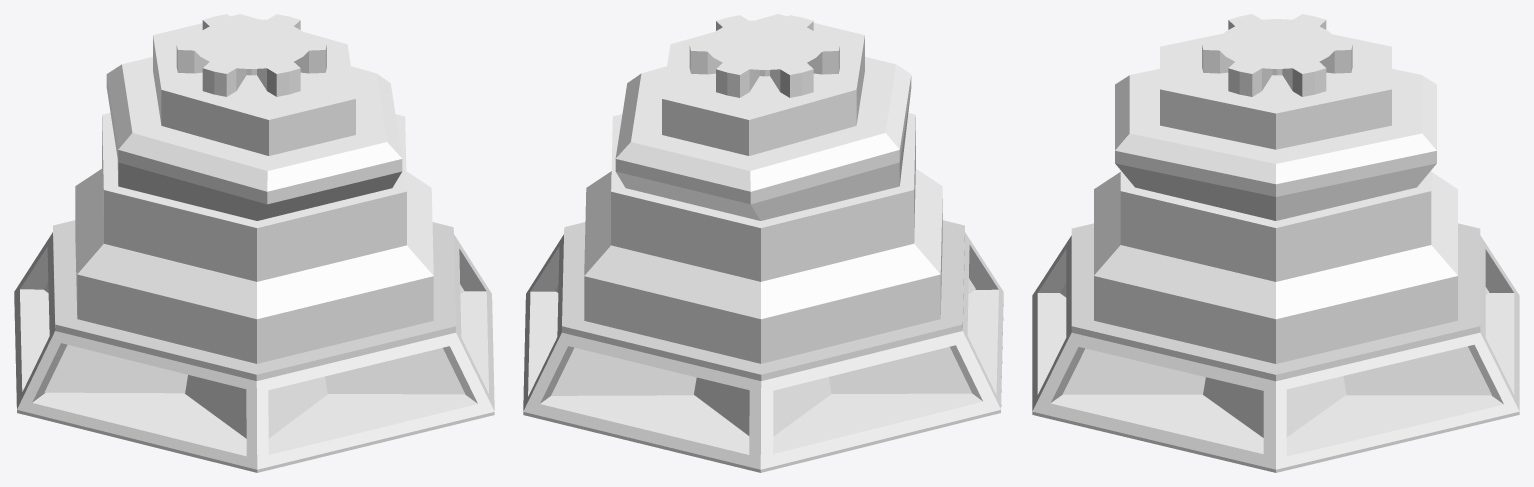
Rendered from AssemblerGround3.fbx.
The picture shows the model from 3 angles, left to right: view 1: azimuth 30°, elevation 25°; view 2: azimuth 150°, elevation 25°; view 3: azimuth 270°, elevation 25°; orthographic projection.
Visible parts, largest first — view 1: Assembler1.002; view 2: Assembler1.002; view 3: Assembler1.002.
Part boxes in pixels (box(x1,y1,x2,y2)): Assembler1.002: box(14, 14, 494, 472); Assembler1.002: box(523, 14, 1003, 472); Assembler1.002: box(1032, 14, 1519, 472).
Bounding box in the file's own units: 139 × 86.72 × 123.
